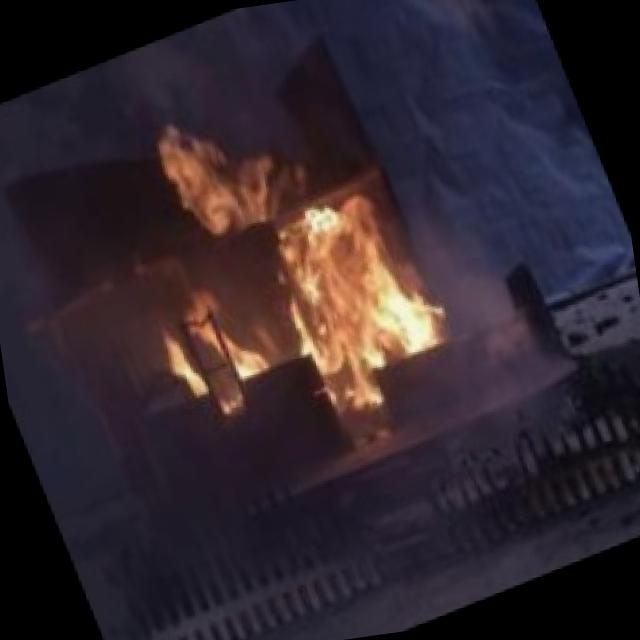fire: (110, 49, 473, 476)
